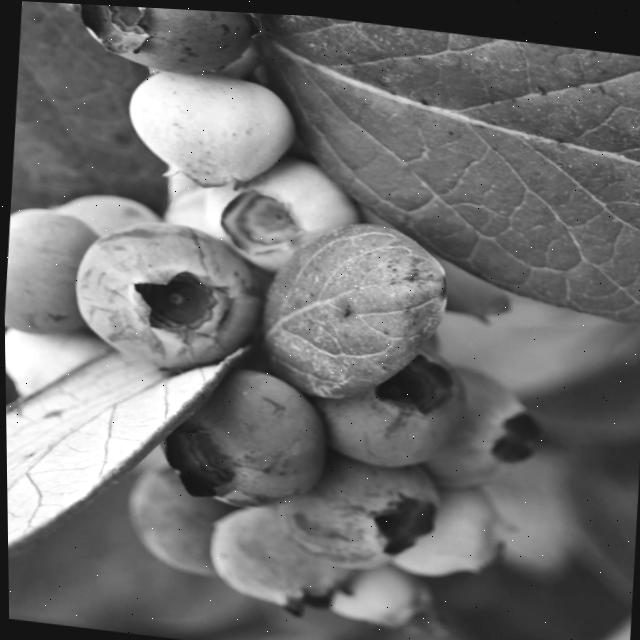RipeBlueBerry: (63, 207, 273, 380), (150, 353, 334, 514), (275, 443, 447, 573), (310, 327, 470, 466), (68, 3, 263, 76), (2, 200, 96, 339)
Semi-RipeBlueBerry: (204, 496, 359, 608)
UnripeBlueBerry: (121, 59, 302, 194), (201, 148, 359, 272)
